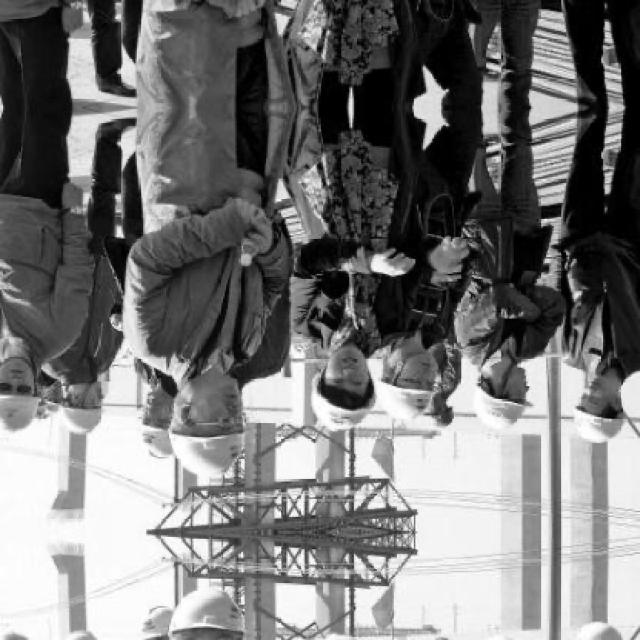con casco: (124, 356, 289, 489), (547, 348, 640, 474), (0, 328, 79, 453), (296, 333, 374, 445), (370, 343, 445, 449), (468, 344, 548, 440), (112, 376, 188, 468)
